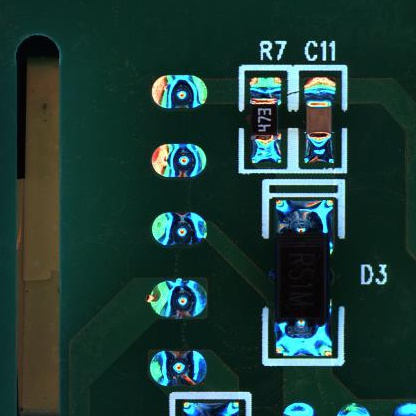spot: (147, 278, 208, 319), (149, 350, 207, 388), (151, 73, 208, 109), (151, 142, 206, 178), (151, 211, 206, 246)
